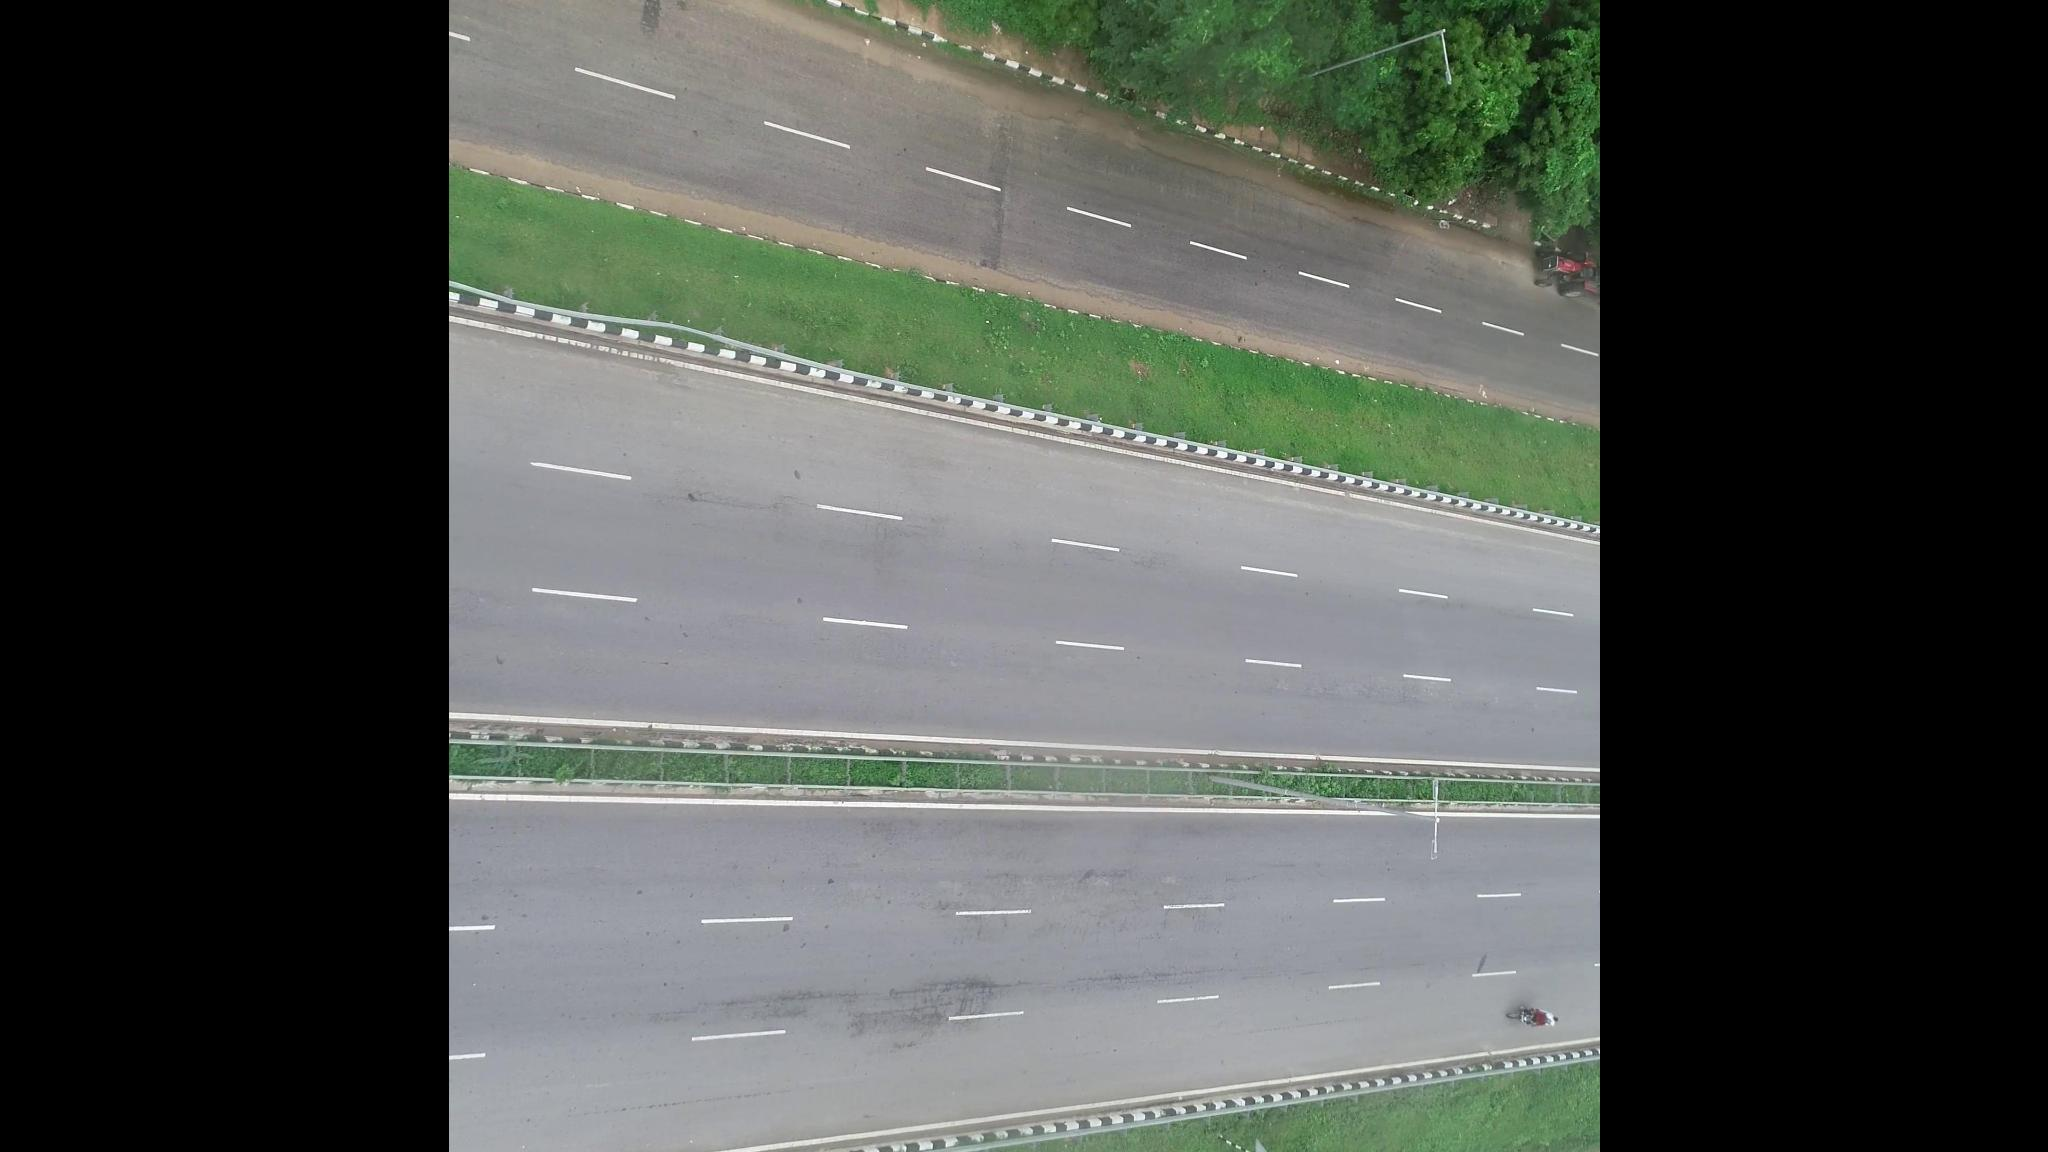Cracks: (736, 972, 1016, 1030), (1045, 956, 1239, 992)
